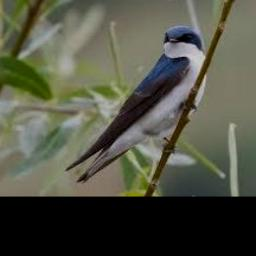Swallow: (65, 25, 207, 183)
